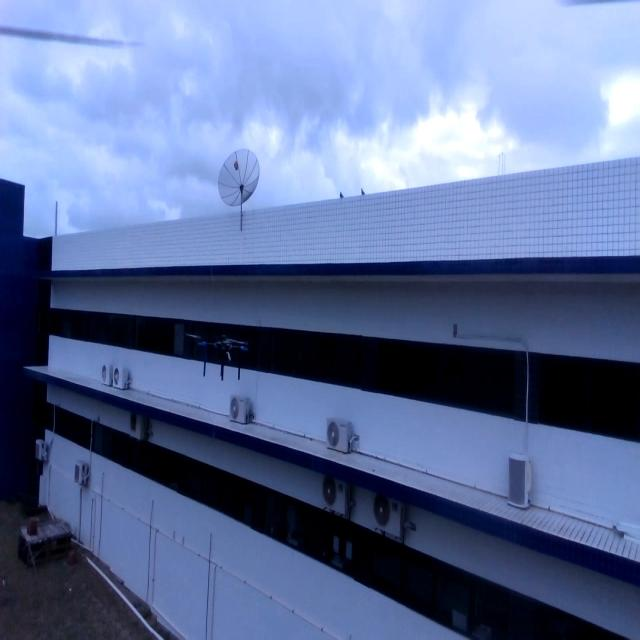-uav-: (178, 302, 262, 404)
